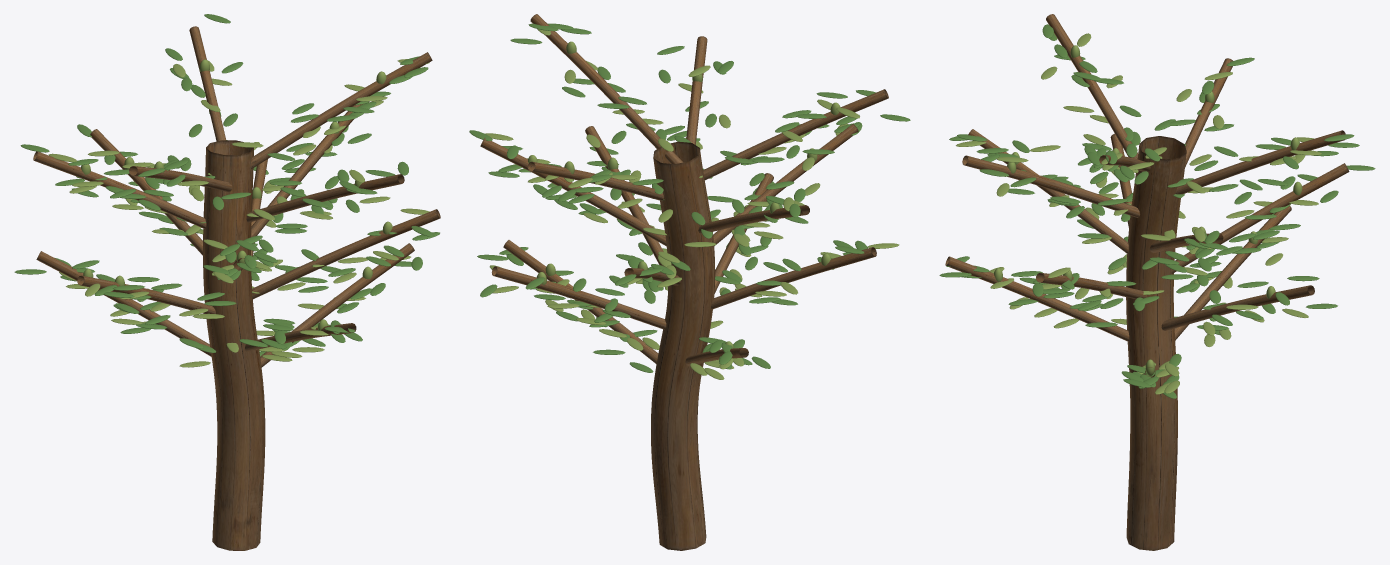
The model's file is sicômoro.glb.
3 renders of one model, left to right at view 1: azimuth 30°, elevation 25°; view 2: azimuth 150°, elevation 25°; view 3: azimuth 270°, elevation 25°, orthographic.
Parts seen in each view (by area): view 1: Tronco, Ramo.005, Ramo.013, Ramo.009, Ramo.010, Ramo, Ramo.001, Ramo.008, Ramo.004, Ramo.011, Ramo.006, Ramo.012 (+1 smaller); view 2: Tronco, Ramo.012, Ramo.013, Ramo.003, Ramo.004, Ramo.008, Ramo.011, Ramo.007, Ramo, Ramo.010, Ramo.009, Ramo.005 (+2 smaller); view 3: Tronco, Ramo.002, Ramo.010, Ramo.011, Ramo.006, Ramo.012, Ramo.003, Ramo.001, Ramo.007, Ramo.005, Ramo.009.
Boxes of the visible parts, x1=… form: Tronco: x1=203, y1=140, x2=265, y2=550; Ramo.005: x1=252, y1=209, x2=440, y2=299; Ramo.013: x1=250, y1=52, x2=432, y2=169; Ramo.009: x1=33, y1=151, x2=206, y2=228; Ramo.010: x1=246, y1=174, x2=404, y2=222; Ramo: x1=260, y1=243, x2=414, y2=367; Ramo.001: x1=36, y1=251, x2=211, y2=356; Ramo.008: x1=251, y1=101, x2=369, y2=237; Ramo.004: x1=77, y1=275, x2=215, y2=313; Ramo.011: x1=189, y1=26, x2=225, y2=141; Ramo.006: x1=90, y1=129, x2=202, y2=255; Ramo.012: x1=129, y1=166, x2=232, y2=191; Tronco: x1=651, y1=141, x2=715, y2=550; Ramo.012: x1=703, y1=89, x2=888, y2=180; Ramo.013: x1=530, y1=14, x2=683, y2=164; Ramo.003: x1=491, y1=266, x2=666, y2=329; Ramo.004: x1=711, y1=247, x2=876, y2=309; Ramo.008: x1=480, y1=138, x2=666, y2=246; Ramo.011: x1=528, y1=161, x2=663, y2=201; Ramo.007: x1=713, y1=124, x2=858, y2=245; Ramo: x1=503, y1=240, x2=658, y2=363; Ramo.010: x1=686, y1=36, x2=707, y2=144; Ramo.009: x1=698, y1=205, x2=809, y2=234; Ramo.005: x1=585, y1=126, x2=664, y2=266; Tronco: x1=1126, y1=136, x2=1186, y2=550; Ramo.002: x1=945, y1=256, x2=1129, y2=341; Ramo.010: x1=962, y1=155, x2=1139, y2=217; Ramo.011: x1=1175, y1=130, x2=1345, y2=194; Ramo.006: x1=1171, y1=163, x2=1349, y2=273; Ramo.012: x1=1046, y1=14, x2=1138, y2=159; Ramo.003: x1=1161, y1=285, x2=1314, y2=330; Ramo.001: x1=1174, y1=206, x2=1291, y2=340; Ramo.007: x1=968, y1=129, x2=1128, y2=254; Ramo.005: x1=1036, y1=272, x2=1147, y2=299; Ramo.009: x1=1185, y1=58, x2=1232, y2=167.
Bounding box in the file's own units: 3.34 × 4.07 × 3.43.
3 materials, 1 textured.
